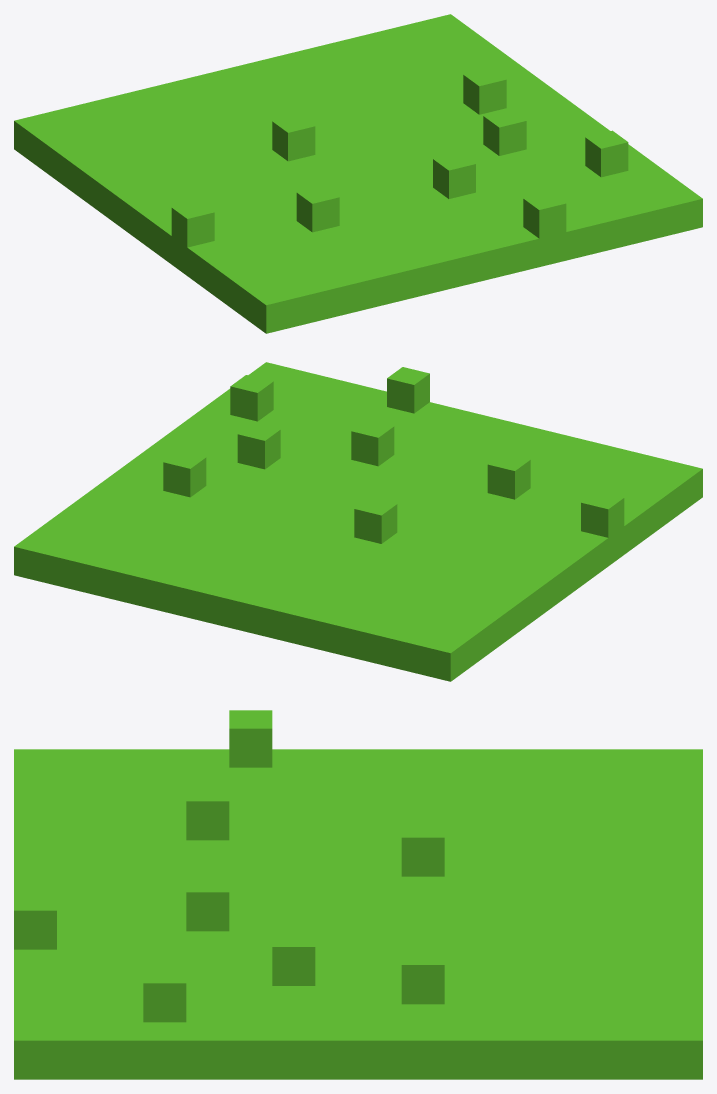
File: env_grass2e.fbx
The picture shows the model from 3 angles, top to bottom: view 1: azimuth 30°, elevation 25°; view 2: azimuth 150°, elevation 25°; view 3: azimuth 270°, elevation 25°; orthographic projection. The views are drawn at different scales.
Parts seen in each view (by area): view 1: env_grass2e; view 2: env_grass2e; view 3: env_grass2e.
Part boxes in pixels (box(x1,y1,x2,y2)): env_grass2e: box(14, 14, 702, 333); env_grass2e: box(14, 362, 702, 681); env_grass2e: box(14, 710, 702, 1079).
Size of the model in its own units: 1.6 by 1.6 by 0.2.
1 material, 1 textured.
